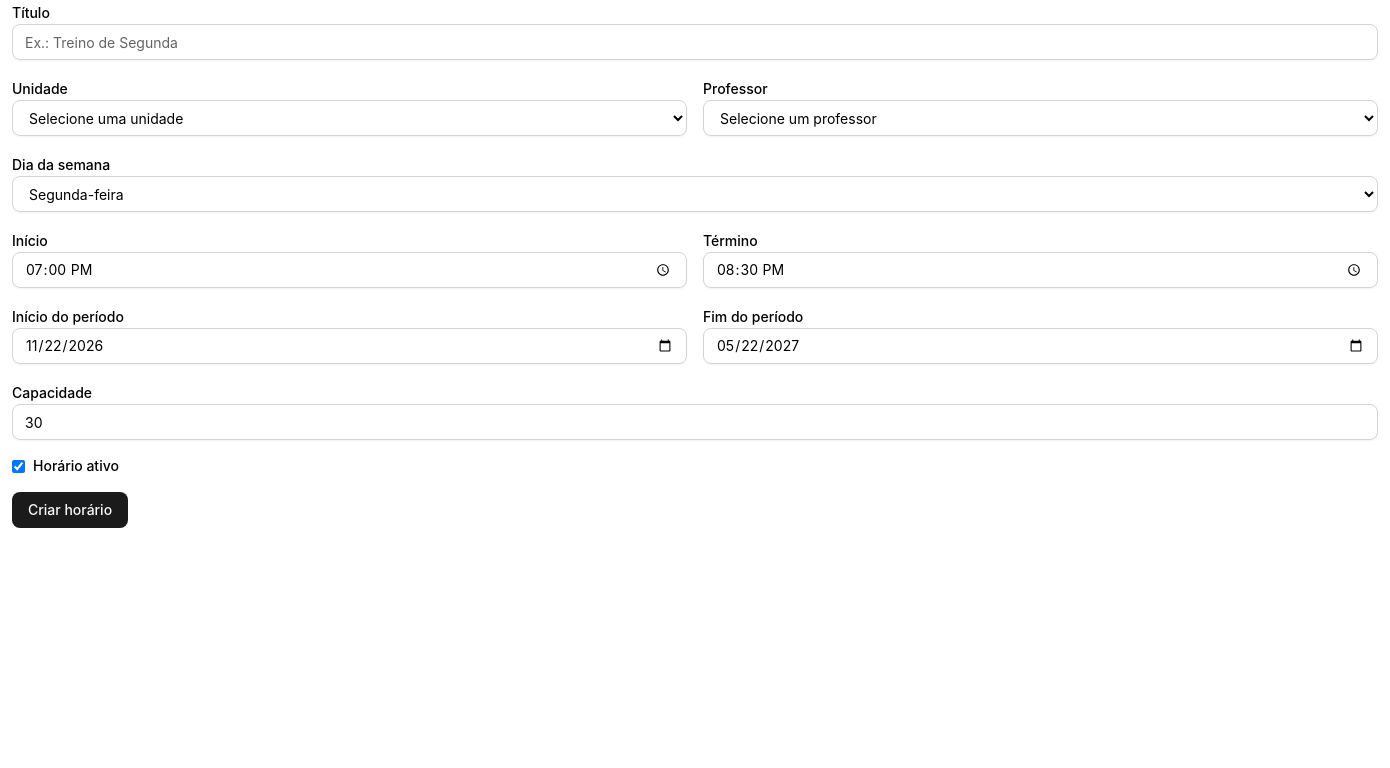
Test: ScheduleForm › requires a unit before creating a schedule
Step 1. Type "Treino de Quarta" into the field labelled "Título" → coordinates (695, 42), box [12, 24, 1378, 60]
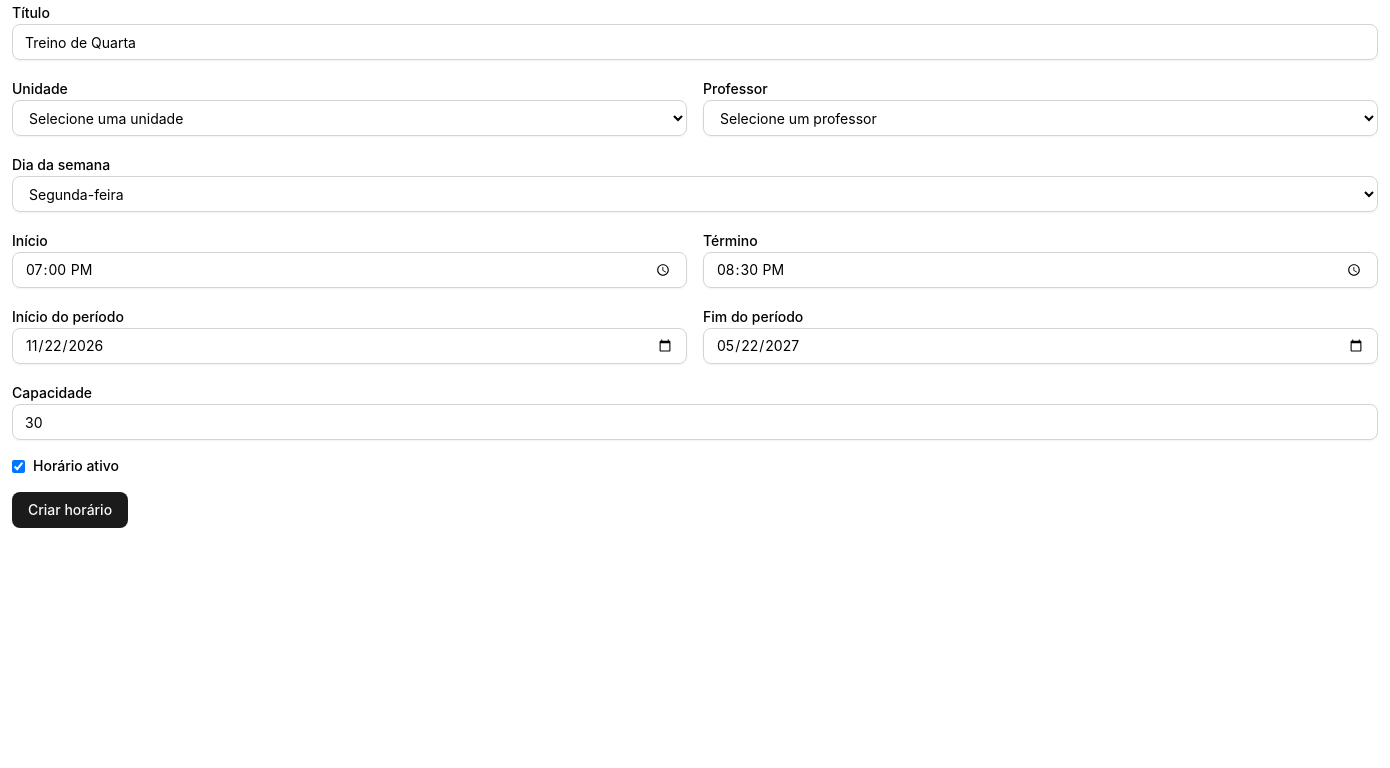
Step 2. Select "Rafael Souza · rafael@caverna.app" in the dropdown labelled "Professor" → coordinates (1040, 118), box [703, 100, 1378, 136]
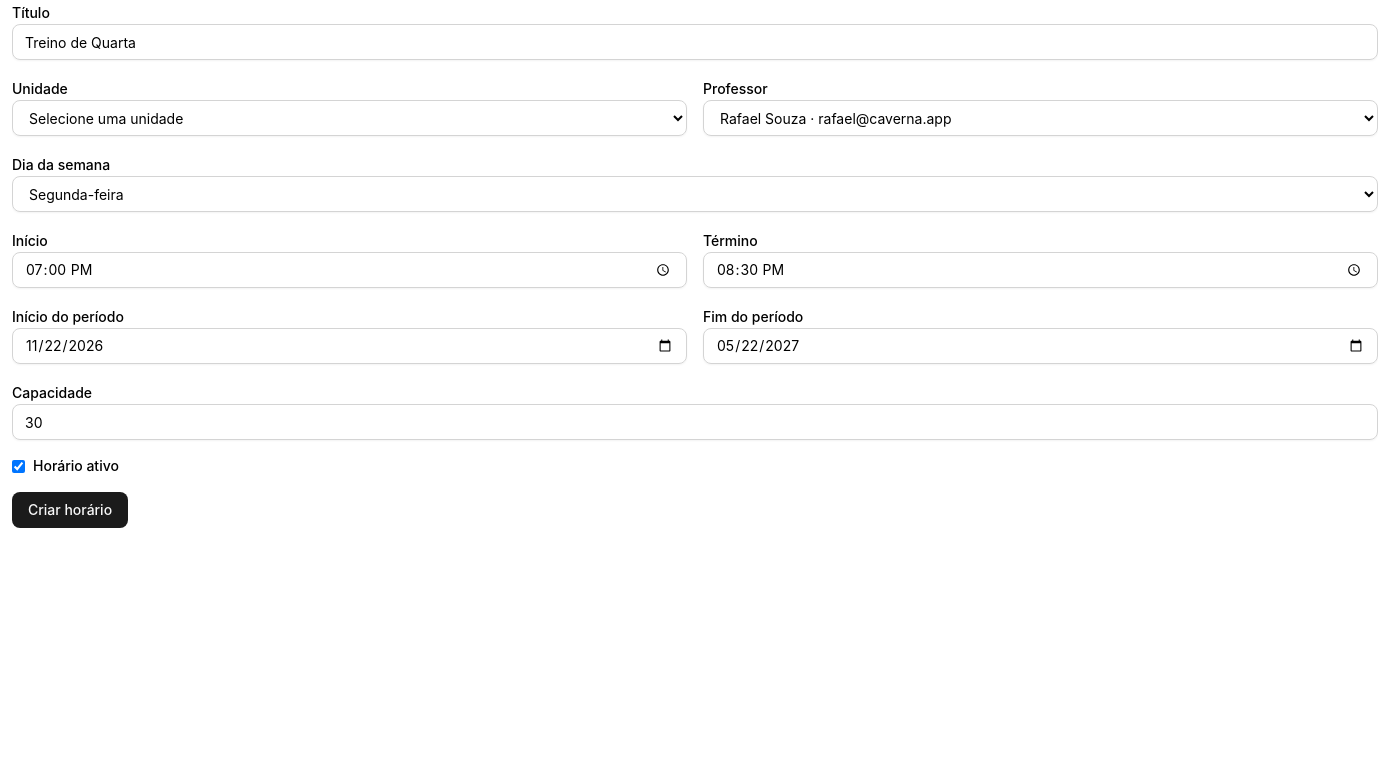
Step 3. Click the button "Criar horário" → coordinates (70, 510), box [12, 492, 128, 528]
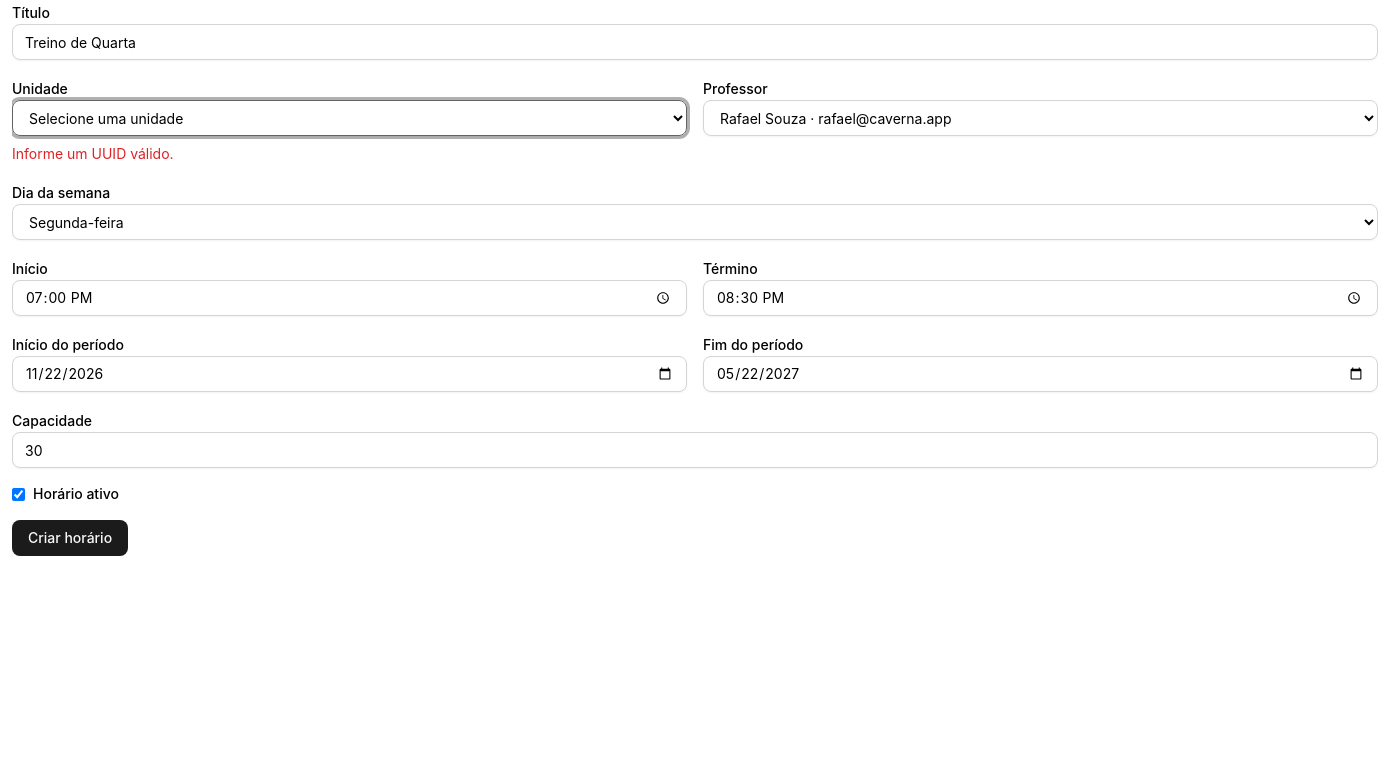
expect the text "Informe um UUID válido." is shown: met, box [12, 145, 174, 162]
